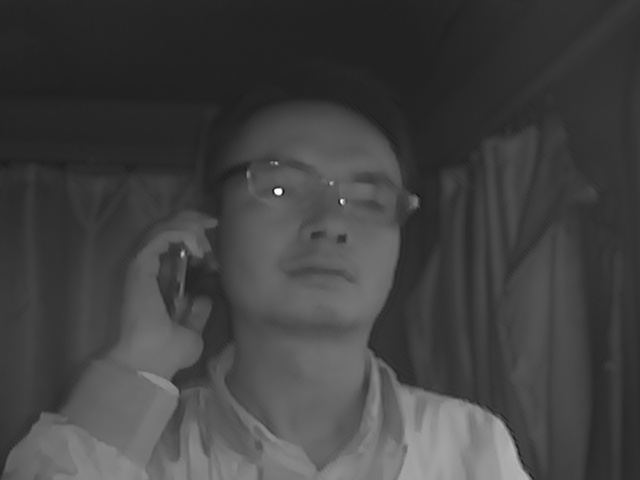hand: (113, 207, 225, 370)
